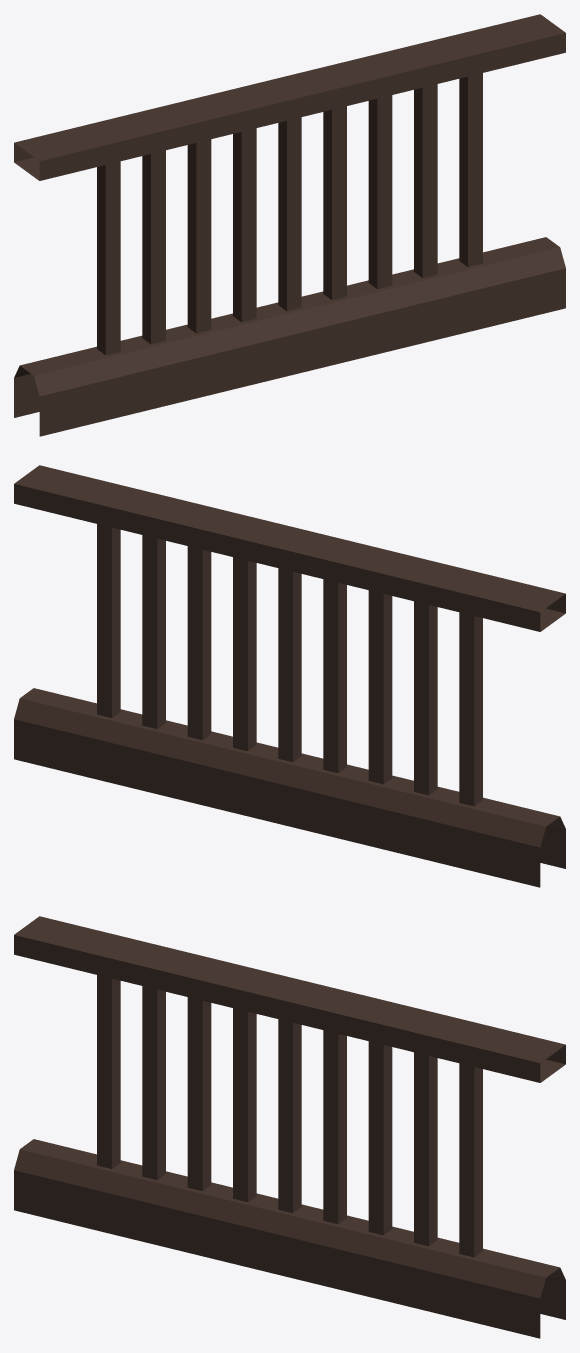
File: LPHorror_Railing2m.fbx
3 views of the same model, one above another, from view 1: azimuth 30°, elevation 25°; view 2: azimuth 150°, elevation 25°; view 3: azimuth 330°, elevation 25° (orthographic).
Visible parts, largest first — view 1: Railing2m; view 2: Railing2m; view 3: Railing2m.
Boxes of the visible parts, left/top/right/bottom form: Railing2m: left=14, top=14, right=565, bottom=436; Railing2m: left=14, top=465, right=565, bottom=887; Railing2m: left=14, top=916, right=565, bottom=1338.
Size of the model in its own units: 200 by 100 by 16.8.
